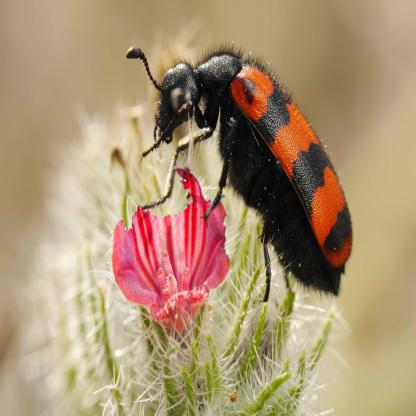blister beetle: (126, 49, 353, 303)
